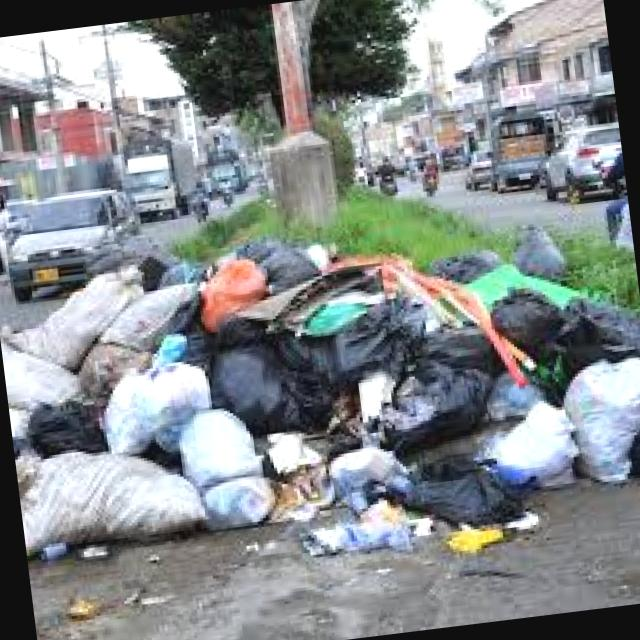garbage: (0, 179, 640, 604)
